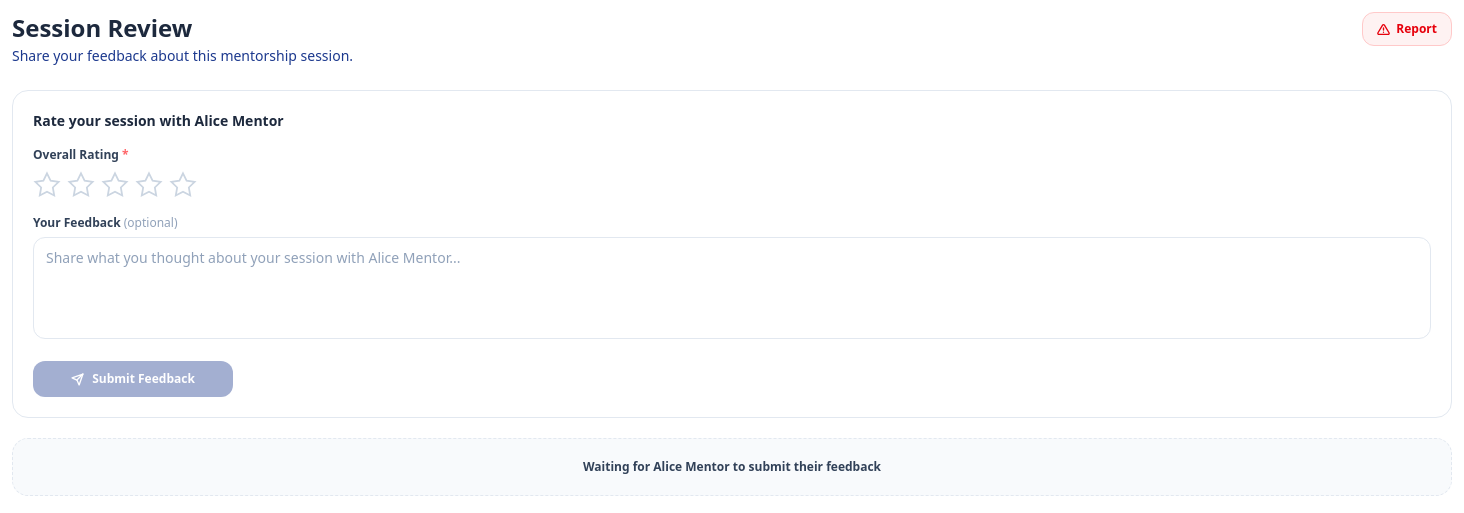
SharedReportTab Component Suite › Interactive Feedback Form Submissions › should render validation labels and allow dynamic adjustments of overall star values
Click the 2nd button. click: [47, 185]
box: top-left (33, 171), bottom-right (61, 199)
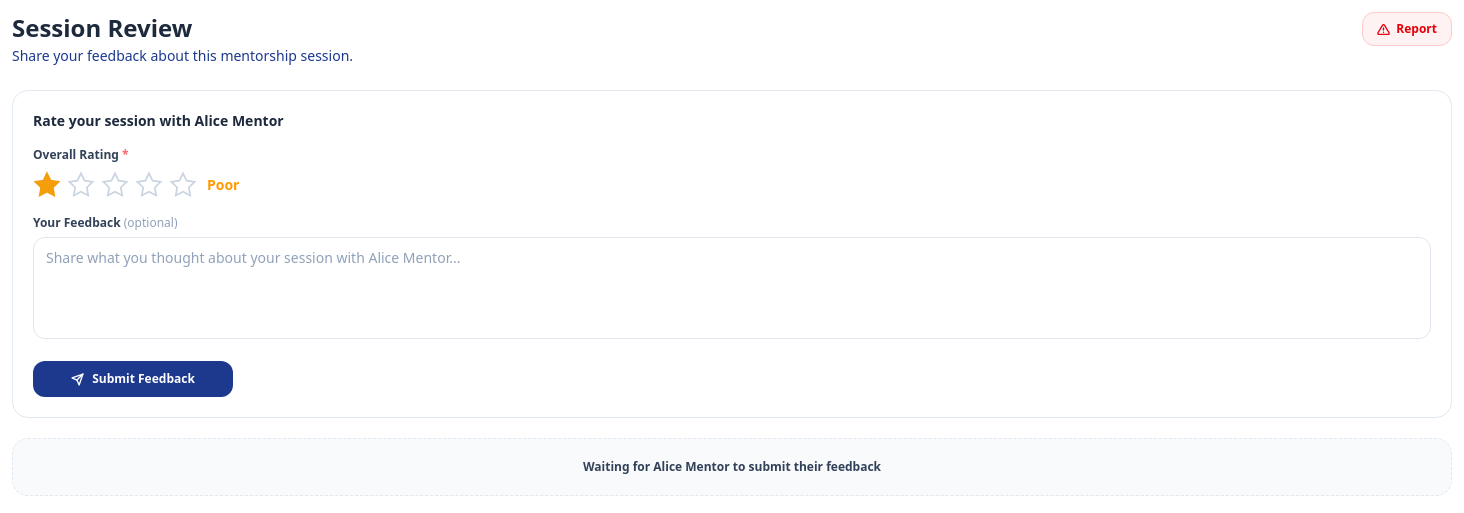
Expected: the text "Poor" is shown, top-left (207, 175), bottom-right (240, 195)
Click the 4th button. click: [115, 185]
box: top-left (101, 171), bottom-right (129, 199)
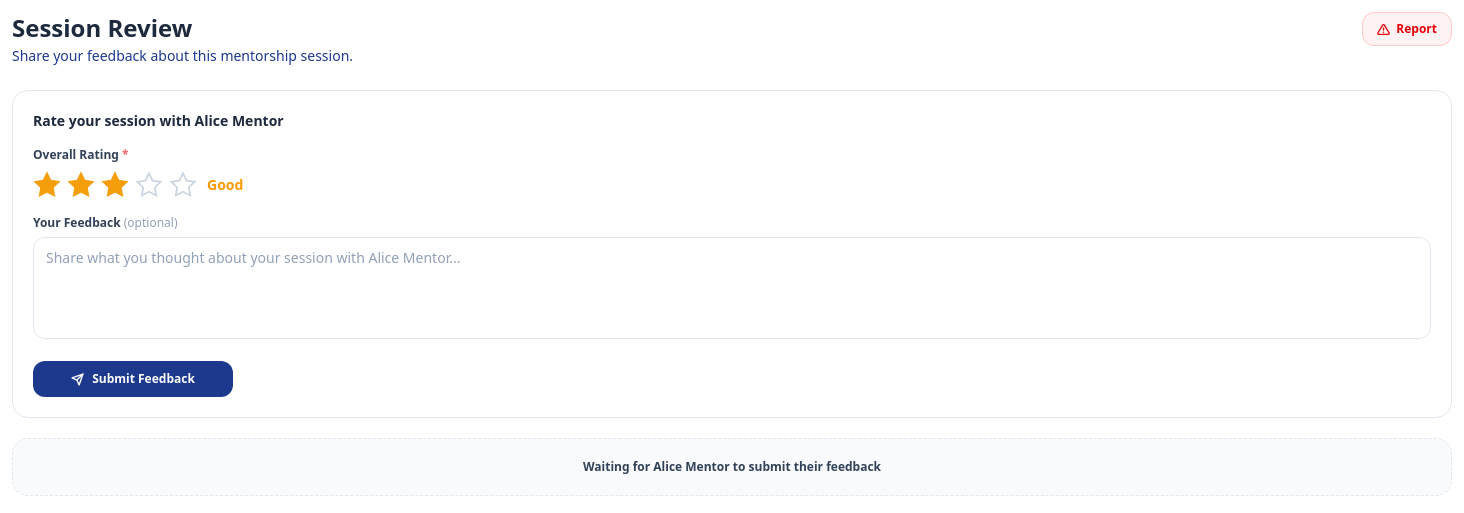
Expected: the text "Good" is shown, top-left (207, 175), bottom-right (243, 195)
Click the 6th button. click: [183, 185]
box: top-left (169, 171), bottom-right (197, 199)
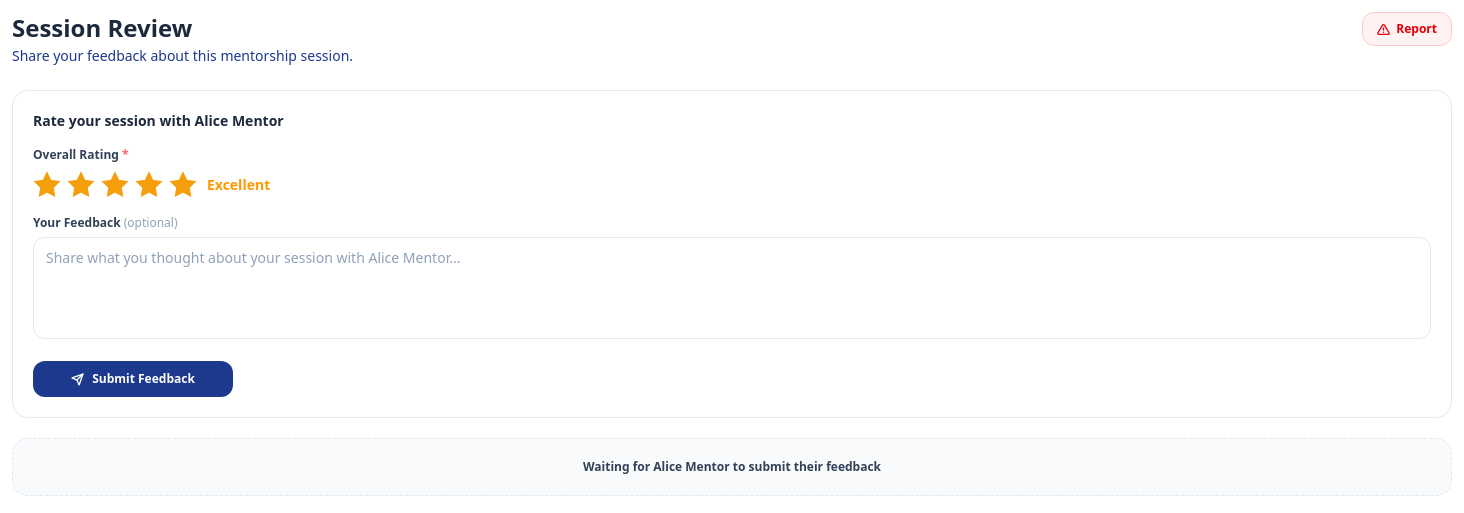
Expected: the text "Excellent" is shown, top-left (207, 175), bottom-right (270, 195)
